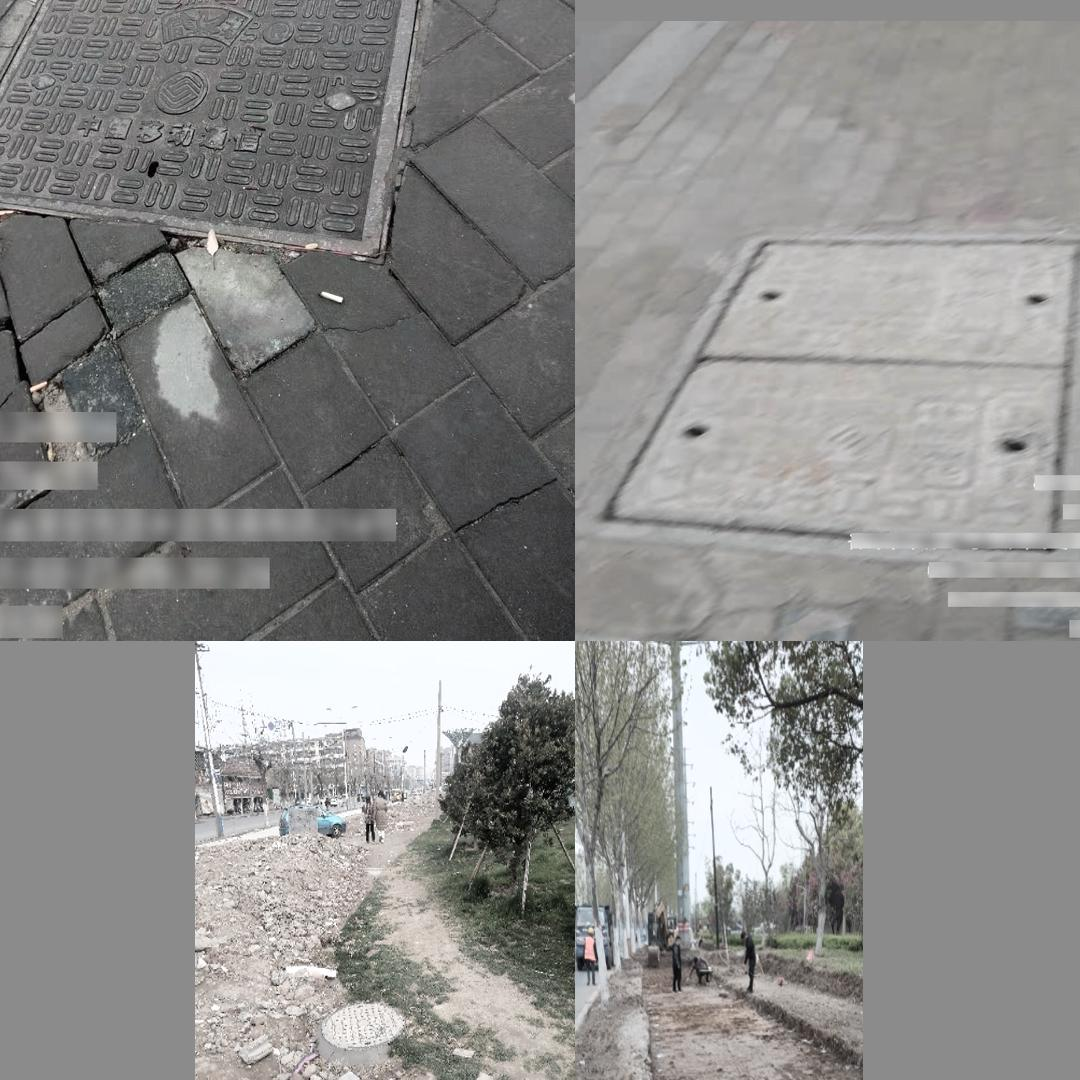good: (575, 230, 1080, 567), (0, 0, 427, 264), (320, 1000, 408, 1049)
